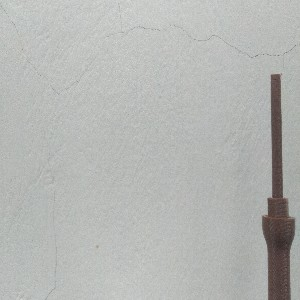obeng: (260, 73, 296, 300)
